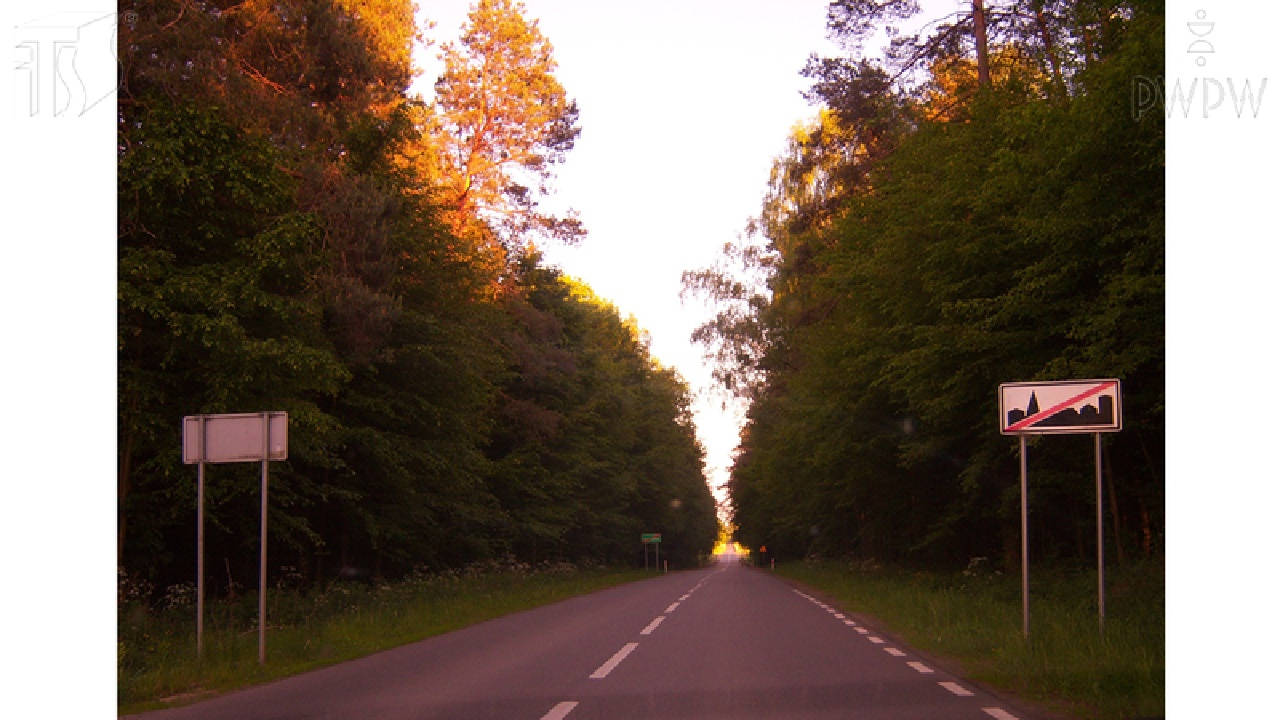D43: (997, 378, 1124, 433)
